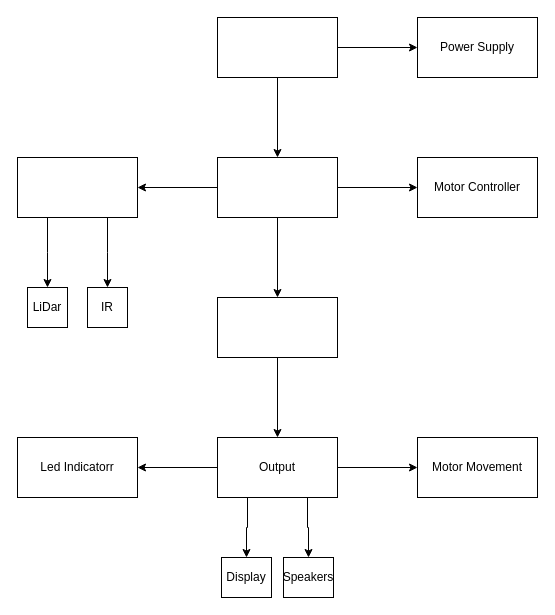
The diagram is 555 pixels wide and 615 high, and some of its shapes have lost their labels. Each missing label, with the box of its shape:
Communication Iinterface: (216, 296, 338, 358)
Microprocessors Unit (AI and ML Processors): (216, 156, 338, 218)
Robot Body: (216, 16, 338, 78)
Sensors: (16, 156, 138, 218)
